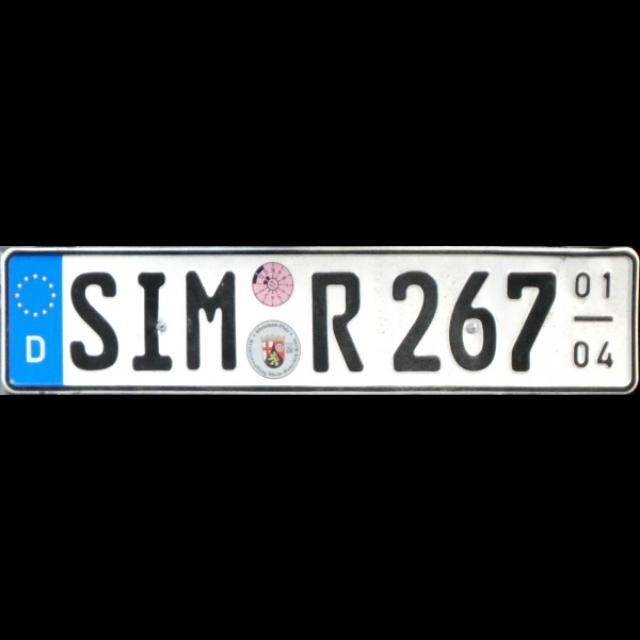license-plates: (0, 248, 640, 394)
